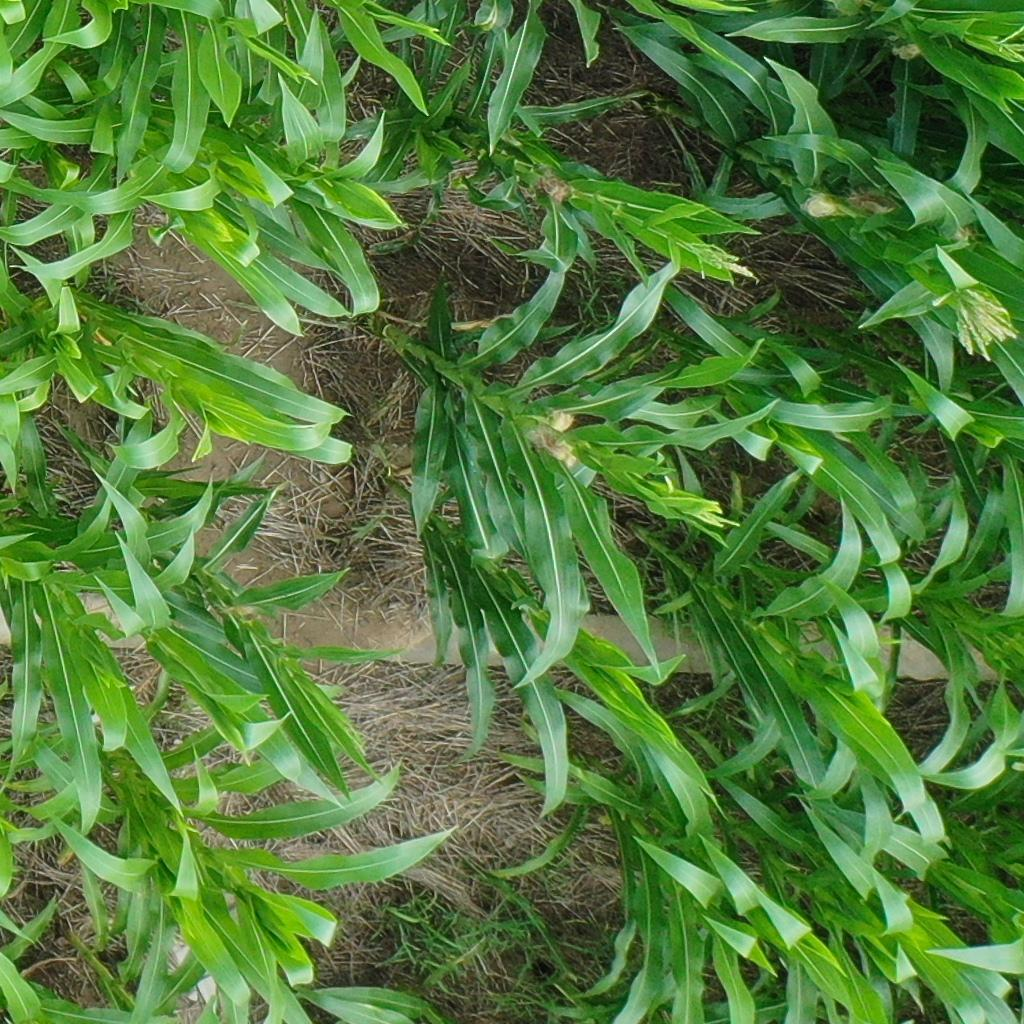Tassel: (936, 277, 1022, 360), (662, 478, 740, 535), (684, 233, 761, 290), (984, 21, 1024, 61)
